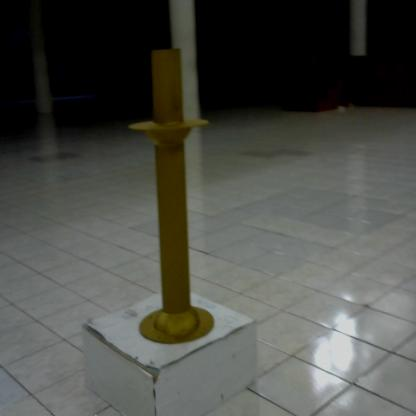pole: (115, 38, 222, 356)
